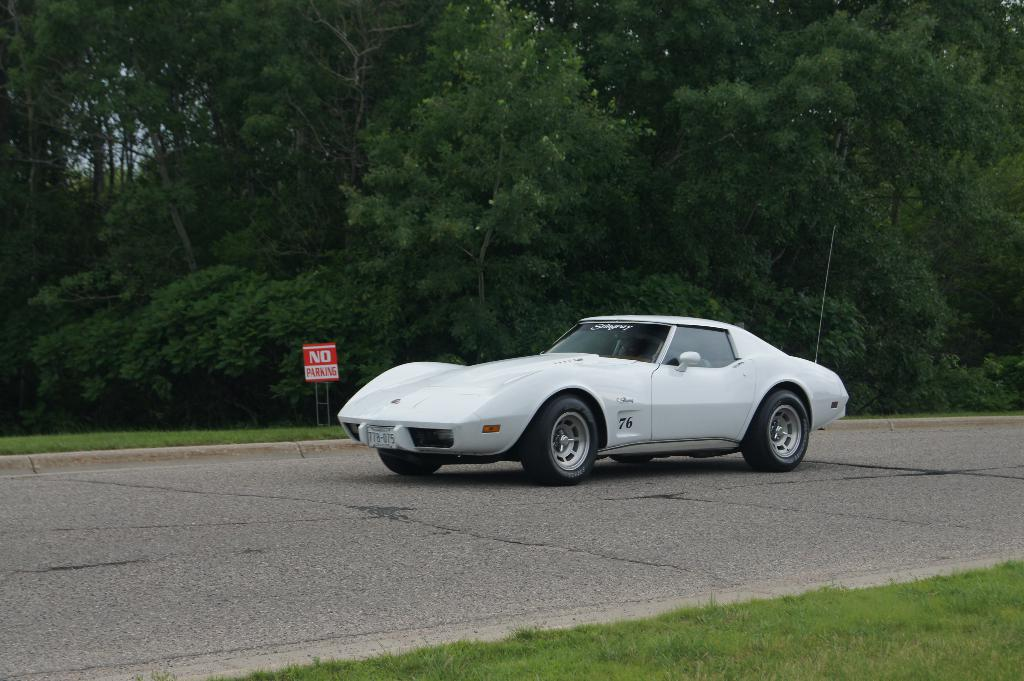Car: (332, 216, 853, 495)
